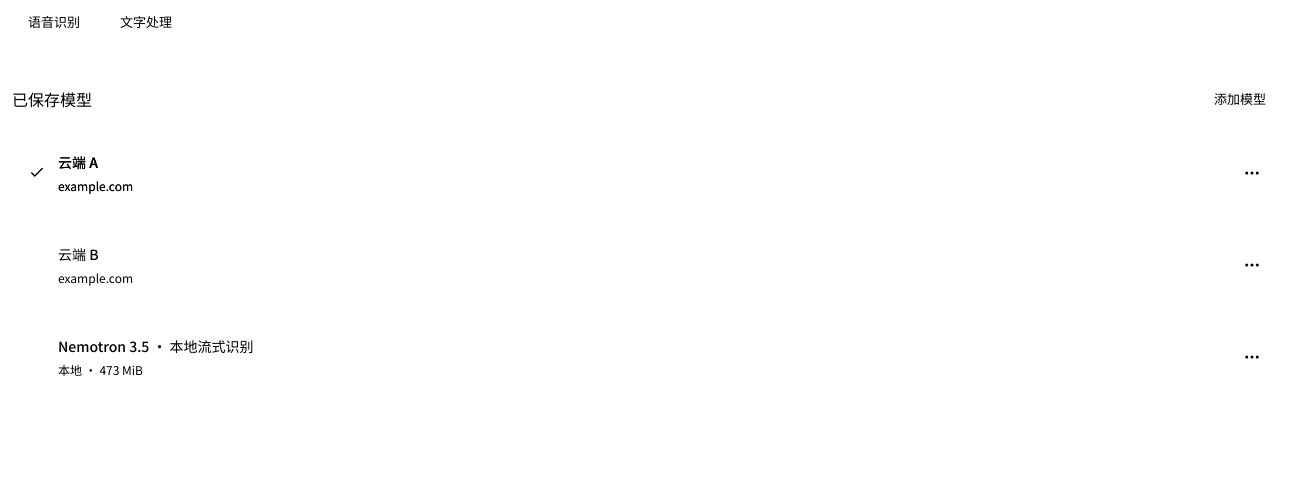
it: model-card selection › keeps the old selection when the service rejects the switch
Expected: the button "Nemotron 3.5 · 本地流式识别 本地 · 473 MiB" is enabled, [12,317,1282,397]
Click the button "云端 B example.com": (647, 265) [12,225,1282,305]
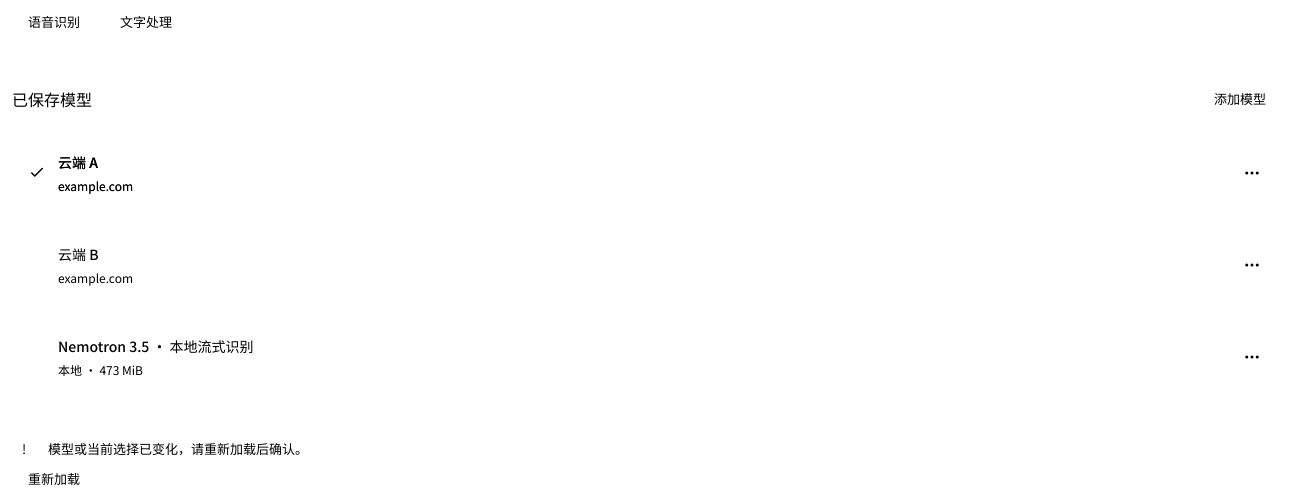
Result: the message "! 模型或当前选择已变化，请重新加载后确认。" is shown at [22,439,308,458]
